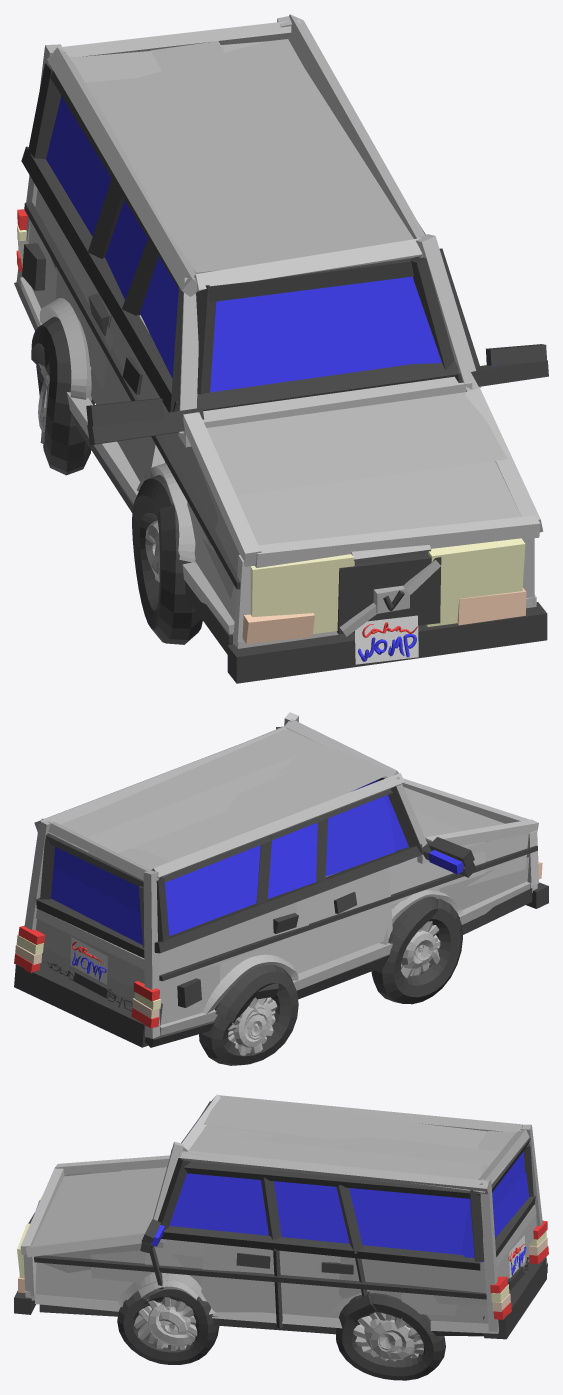
Rendered from van.glb.
The picture shows the model from 3 angles, top to bottom: view 1: azimuth 30°, elevation 25°; view 2: azimuth 150°, elevation 25°; view 3: azimuth 270°, elevation 25°; orthographic projection. The views are drawn at different scales.
Parts seen in each view (by area): view 1: position; view 2: position; view 3: position.
Part boxes in pixels (x1,y1,x2,y2): position: (14,14,548,683); position: (14,712,548,1065); position: (14,1094,548,1380).
Size of the model in its own units: 0.5785 by 0.4373 by 0.9736.
